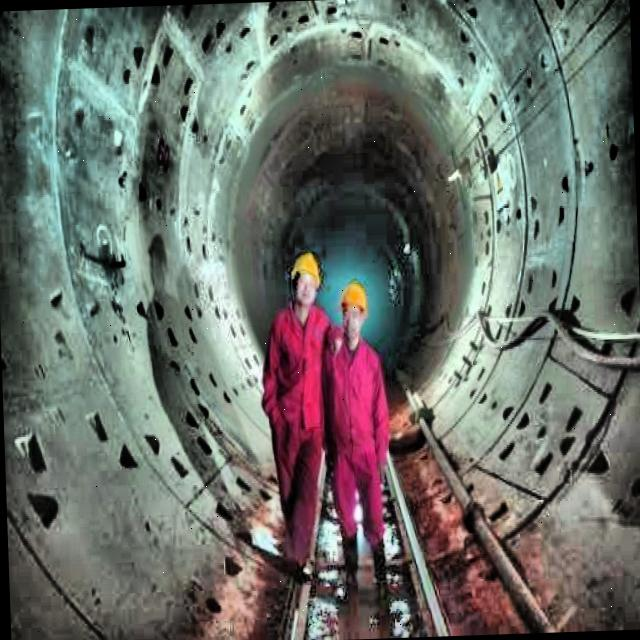helmet: (336, 282, 368, 343), (290, 254, 320, 314)
